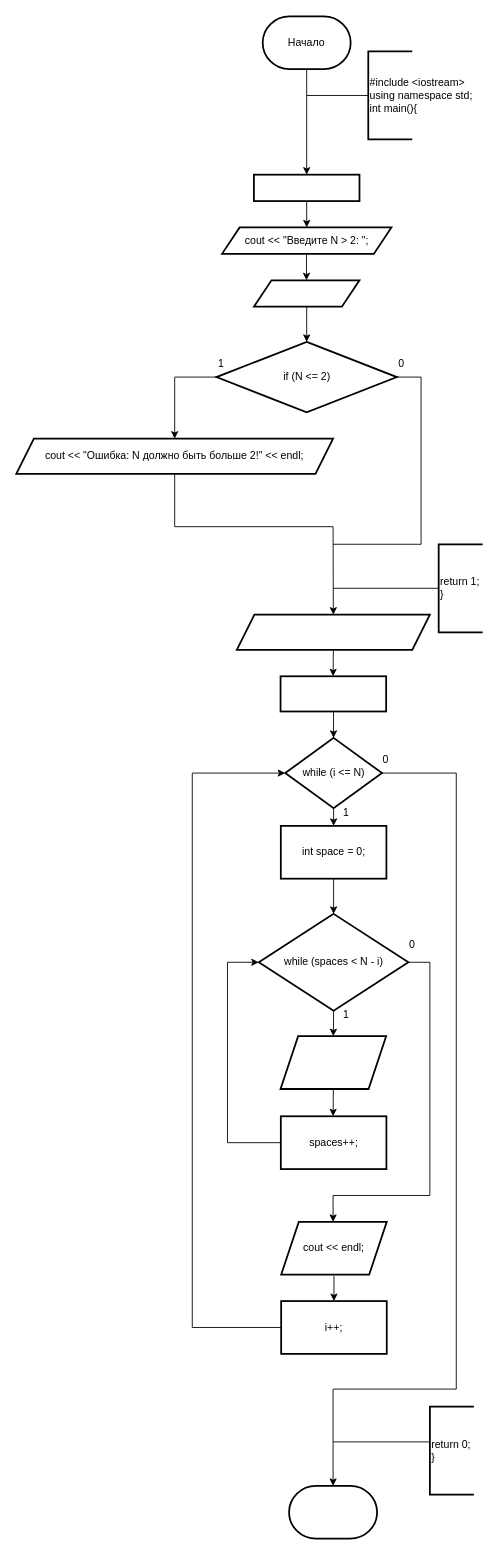
Some shapes in this 498 by 1554 pixel diagram are drawn without their labels. Each missing label, with the centre of its shape:
cin >> N;: (x=306, y=293)
cout << " ";: (x=333, y=1062)
cout << "Треугольник:" << endl;: (x=332, y=631)
int i = 1;: (x=333, y=693)
int N;: (x=306, y=187)
Конец: (x=333, y=1512)
